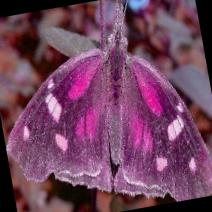butterfly: (6, 2, 212, 201)
